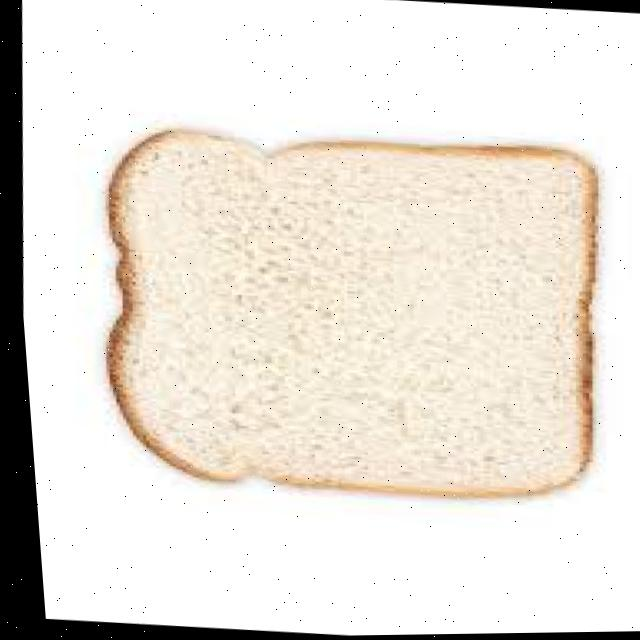Bread: (101, 131, 591, 497)
